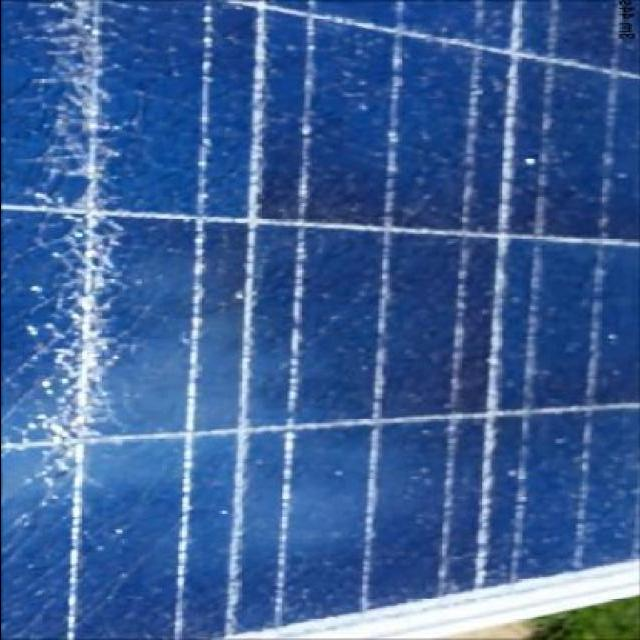cracked: (2, 0, 636, 637)
